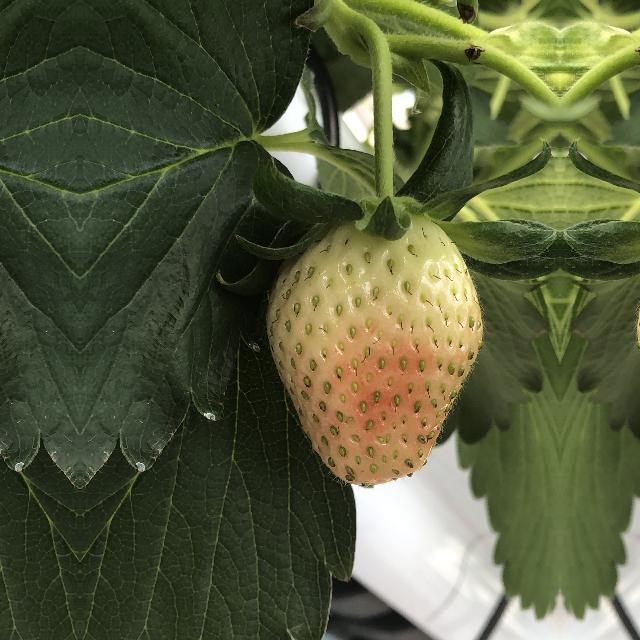Health_50: (266, 203, 486, 495)
